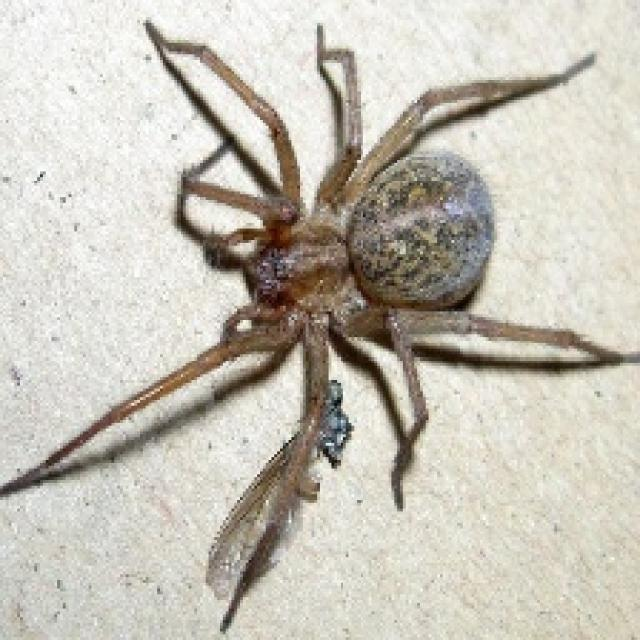Non venomous spider: (70, 26, 579, 554)
